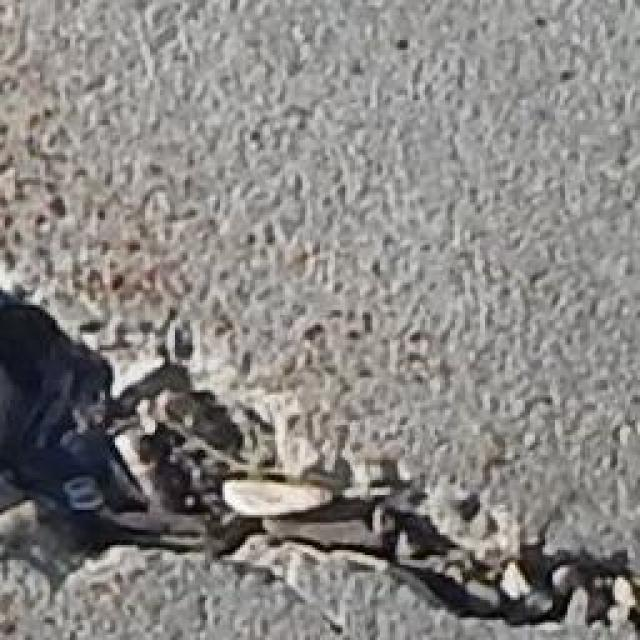concrete-crack: (0, 282, 640, 637)
